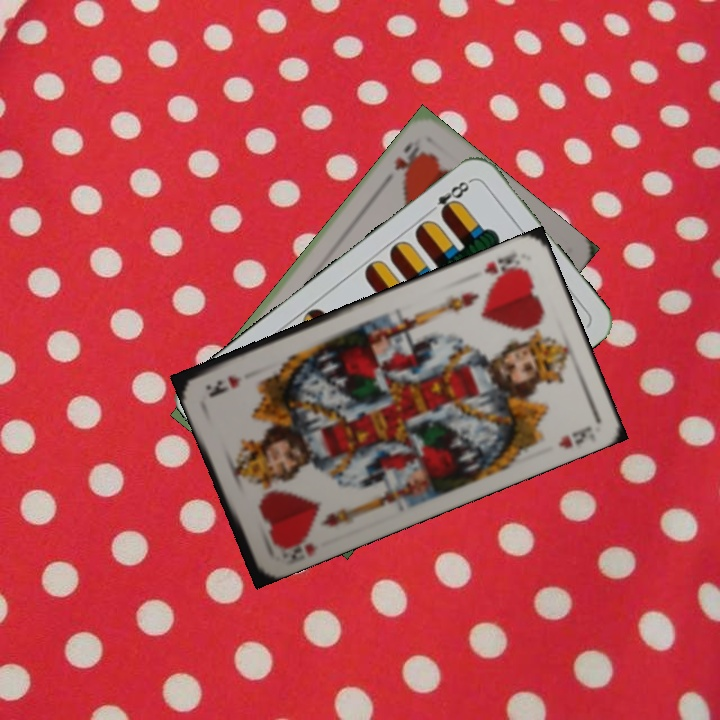E8: (424, 175, 475, 219)
HK: (271, 529, 321, 563), (480, 248, 525, 281)
HO: (390, 137, 427, 178)
